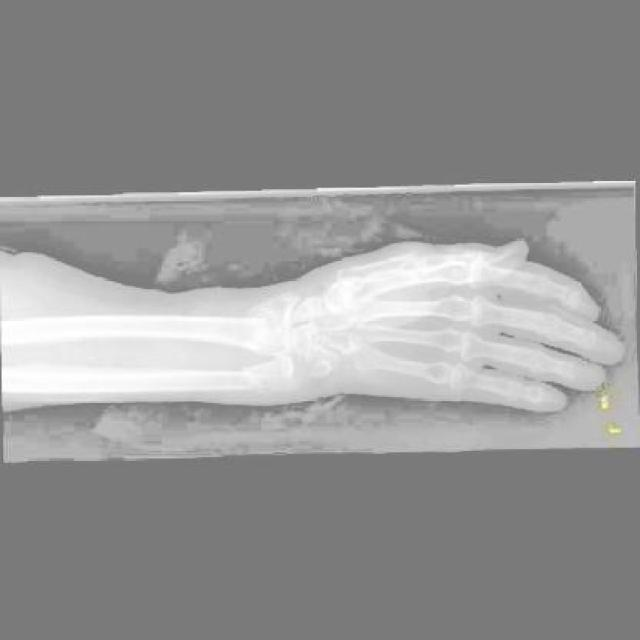Fracture: (245, 302, 281, 351), (240, 362, 271, 390)
